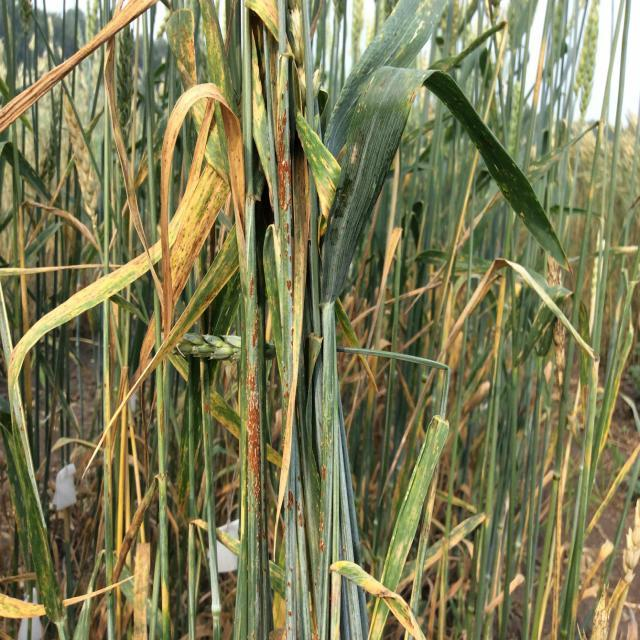wheat-stemrust: (168, 156, 230, 306), (245, 196, 260, 538), (285, 489, 296, 640), (273, 117, 290, 213), (319, 462, 330, 554), (298, 502, 305, 587)
